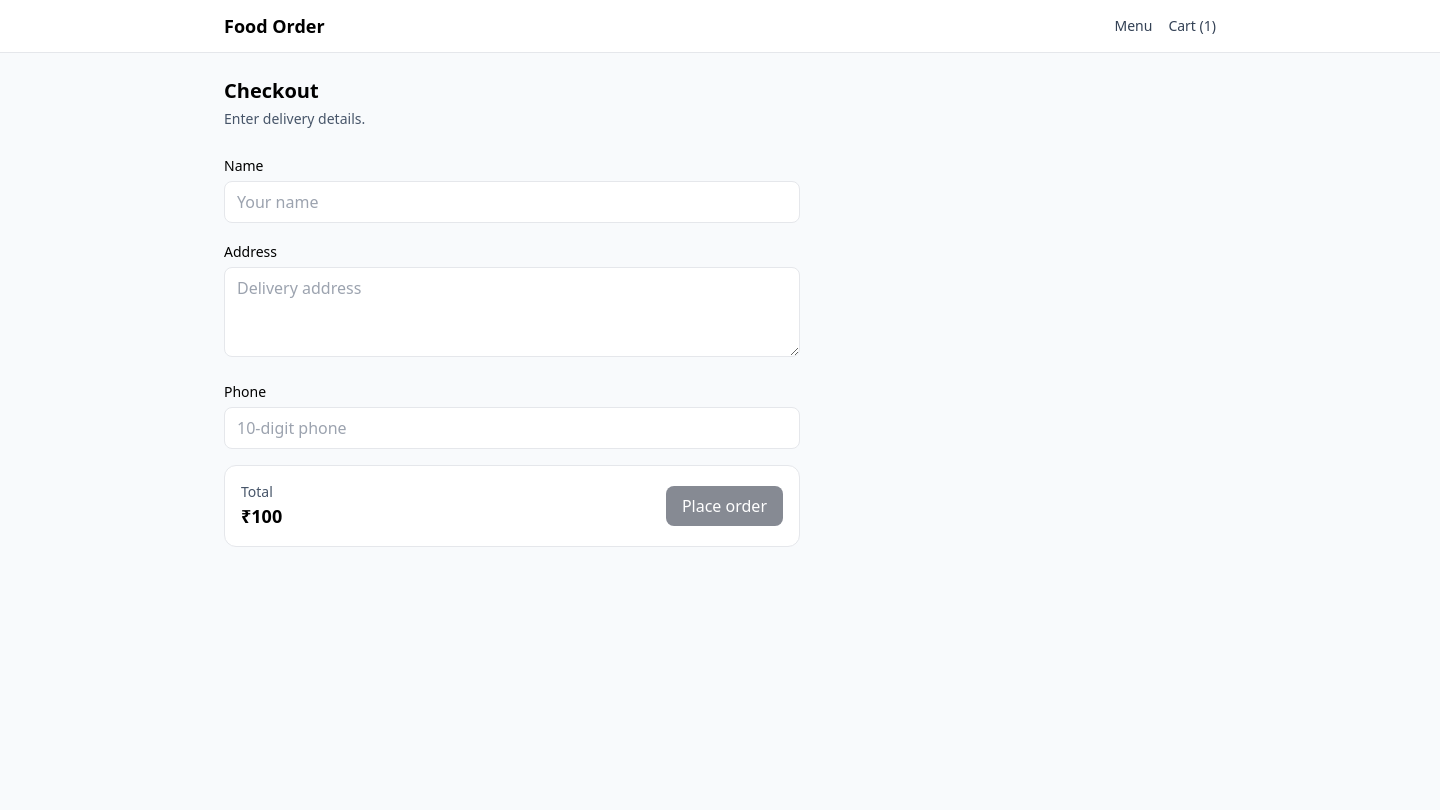
CheckoutPage › enables submit only when form is valid and navigates to order page on success
Expected: the button "Place order" is disabled, [666,486,783,526]
Type "Tirth" into the field with placeholder "Your name" at (512, 202), box [224,181,800,223]
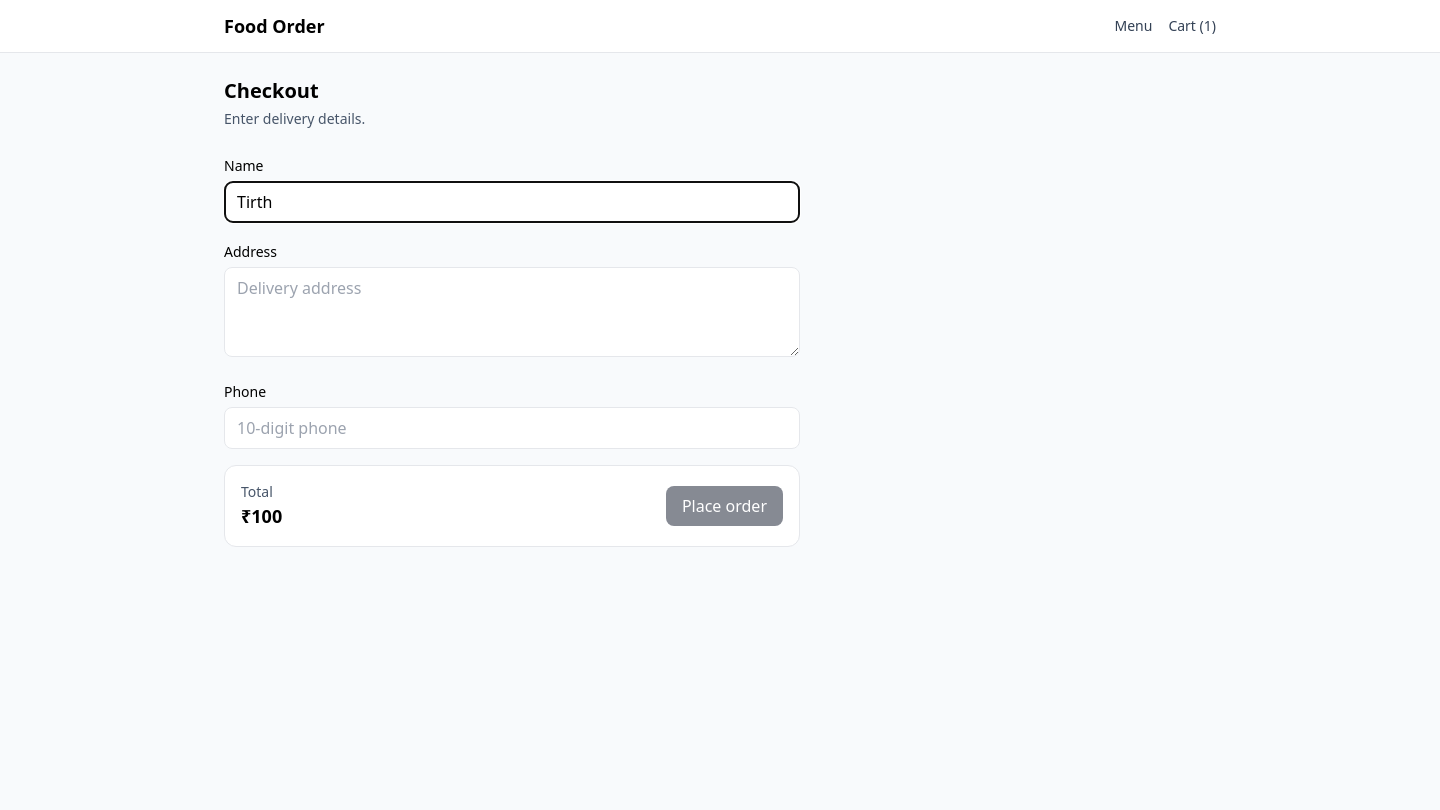
Type "Ahmedabad" into the text box with placeholder "Delivery address" at (512, 312), box [224,267,800,357]
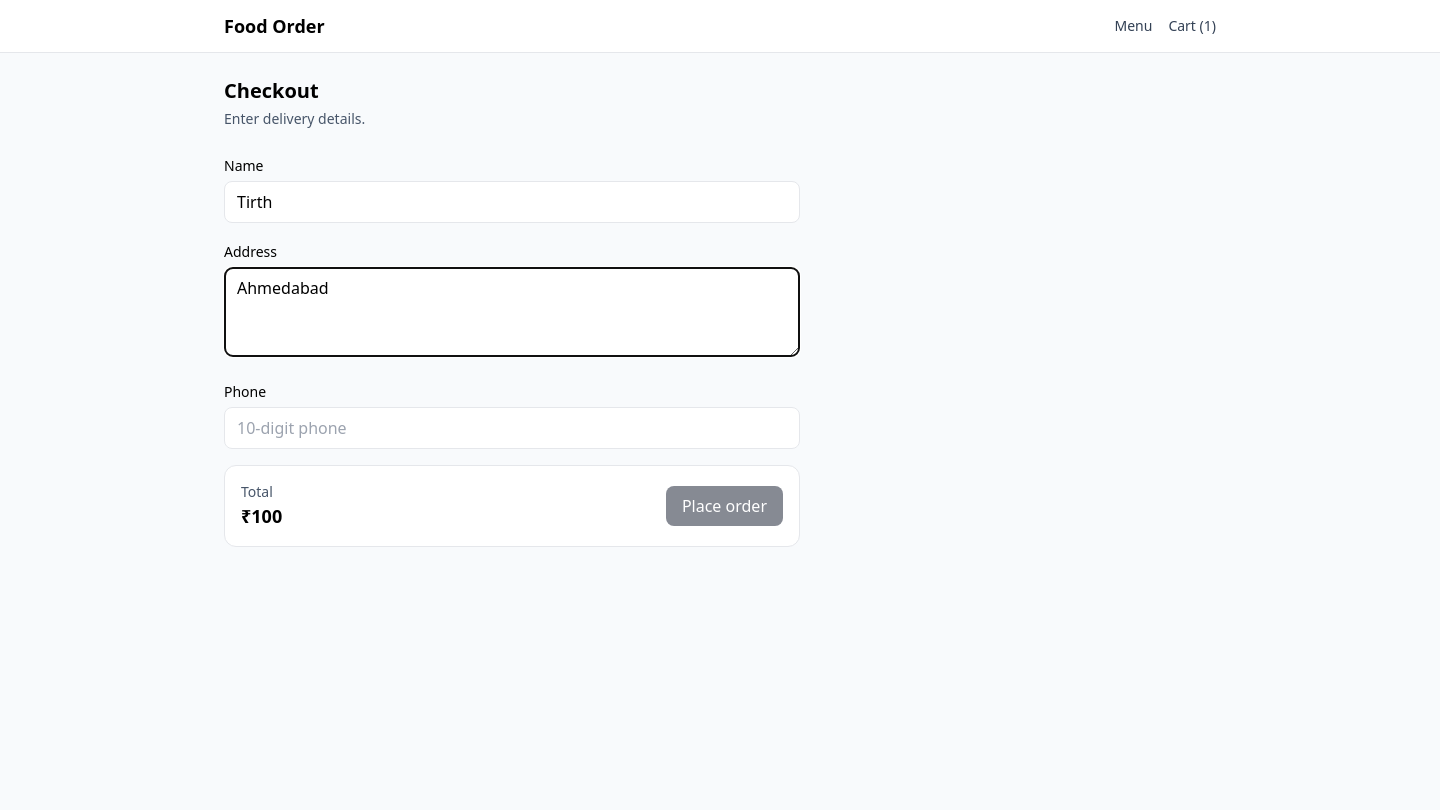
Type "9876543210" into the field with placeholder "10-digit phone" at (512, 428), box [224,407,800,449]
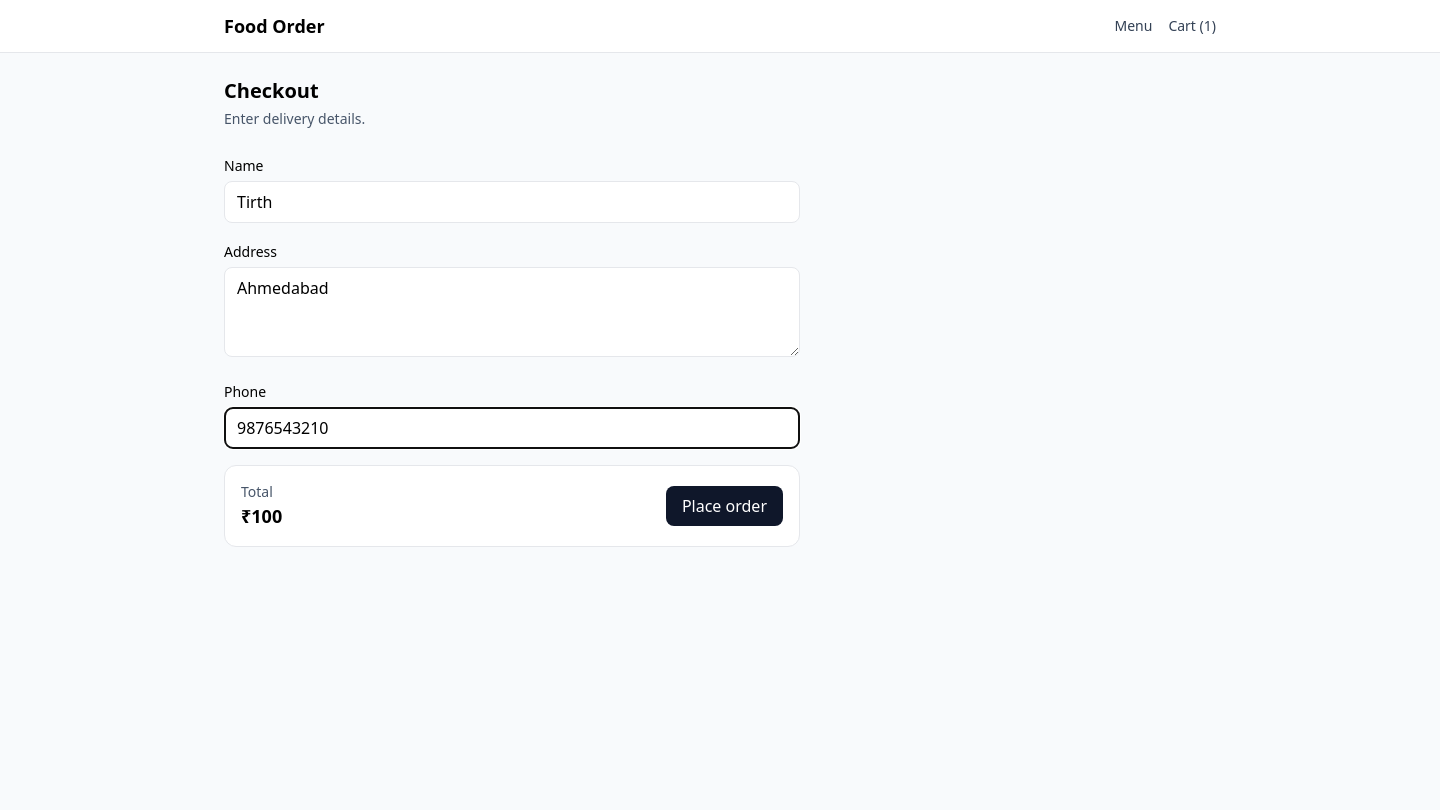
Expected: the button "Place order" is enabled
Click the button "Place order" at (724, 506), box [666,486,783,526]
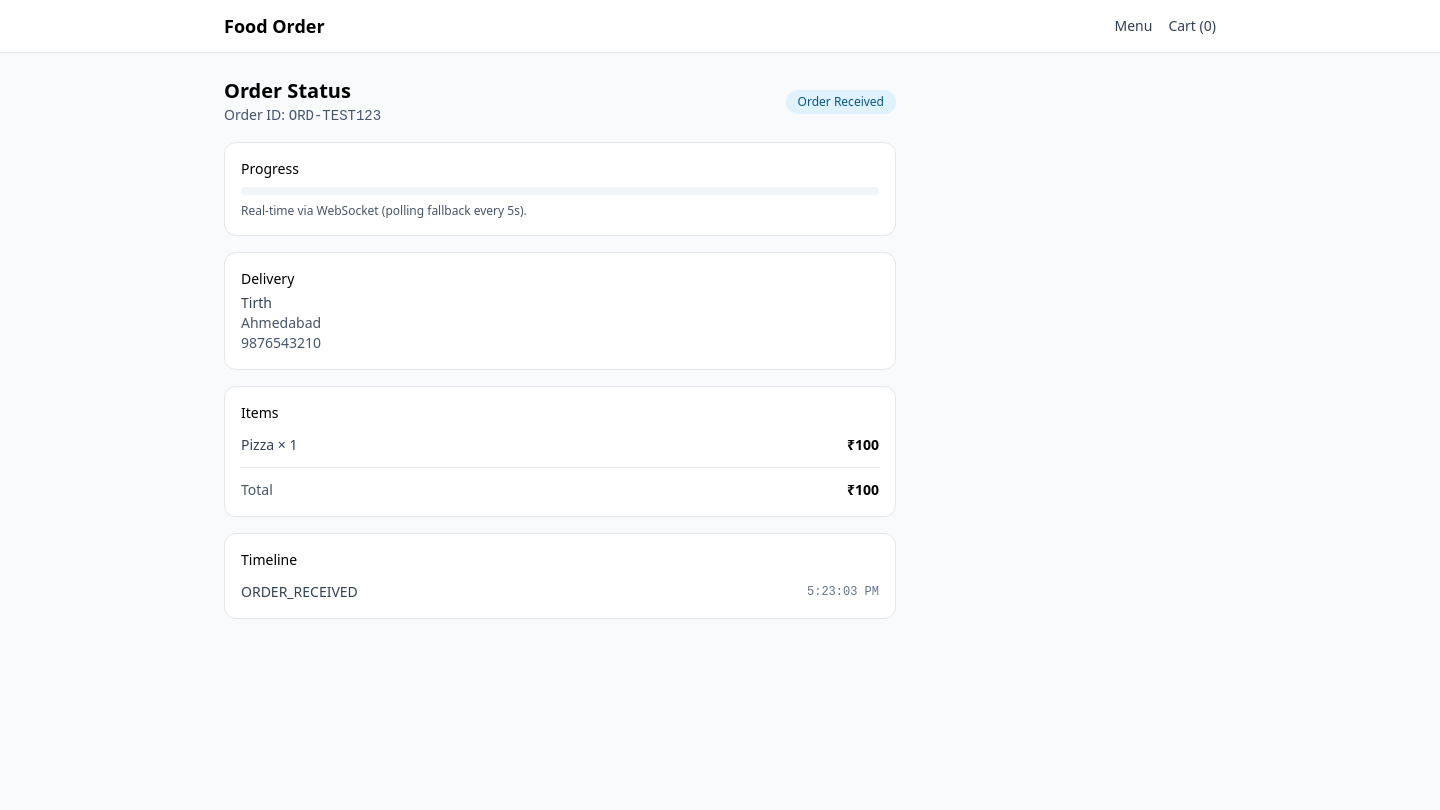
Expected: the heading "Order Status" is shown, [224,77,351,104]
